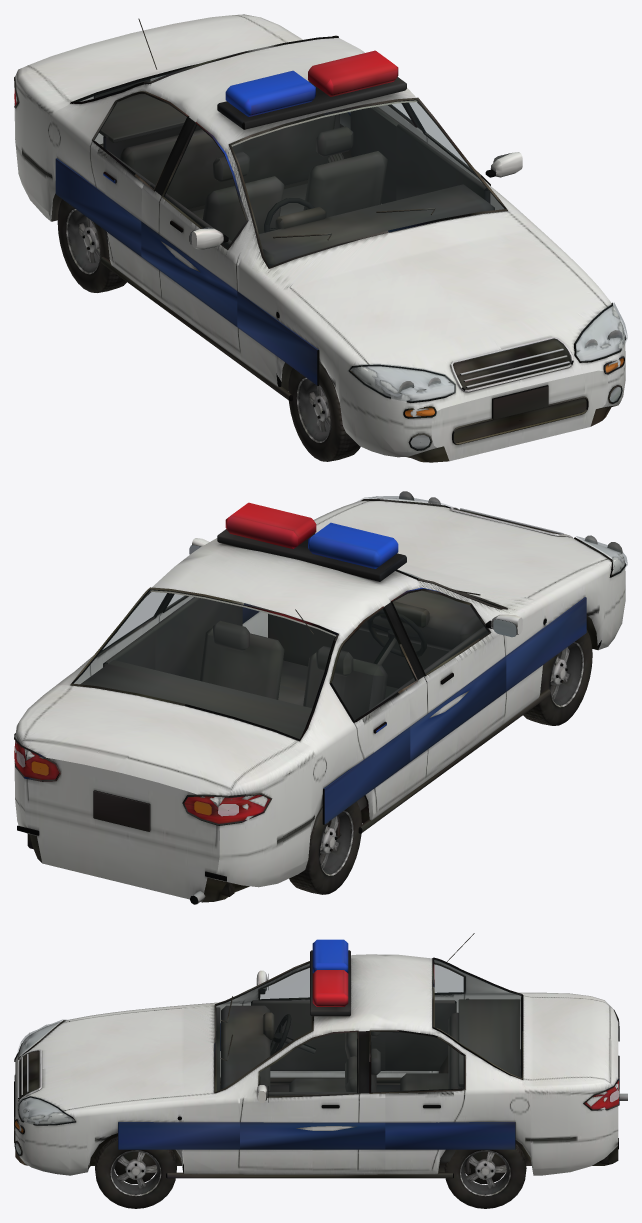
File: police_car.glb
3 renders of one model, top to bottom at view 1: azimuth 30°, elevation 25°; view 2: azimuth 150°, elevation 25°; view 3: azimuth 270°, elevation 25°, orthographic. The views are drawn at different scales.
Parts seen in each view (by area): view 1: body, glass, door_D, door_D_glass, door_PL, wheel_FR, wheel_RR, door_PL_glass; view 2: body, glass, door_D, door_PL, door_D_glass, wheel_RR, wheel_FR; view 3: body, glass, door_PL, door_PL_glass, door_D, wheel_FL, wheel_RL, door_D_glass.
Part boxes in pixels (left/top/right/bottom): body: left=14, top=14, right=626, bottom=462; glass: left=77, top=67, right=627, bottom=450; door_D: left=141, top=146, right=284, bottom=354; door_D_glass: left=146, top=139, right=317, bottom=247; door_PL: left=349, top=102, right=504, bottom=210; wheel_FR: left=288, top=361, right=360, bottom=461; wheel_RR: left=57, top=199, right=126, bottom=292; door_PL_glass: left=399, top=103, right=483, bottom=190; body: left=14, top=491, right=626, bottom=904; glass: left=74, top=496, right=627, bottom=738; door_D: left=343, top=589, right=506, bottom=789; door_PL: left=142, top=593, right=242, bottom=681; door_D_glass: left=387, top=596, right=488, bottom=685; wheel_RR: left=289, top=801, right=361, bottom=894; wheel_FR: left=523, top=629, right=592, bottom=725; body: left=14, top=933, right=627, bottom=1178; glass: left=14, top=959, right=521, bottom=1155; door_PL: left=240, top=1052, right=385, bottom=1169; door_PL_glass: left=240, top=1038, right=384, bottom=1095; door_D: left=240, top=976, right=385, bottom=1072; wheel_FL: left=95, top=1136, right=176, bottom=1208; wheel_RL: left=444, top=1144, right=526, bottom=1208; door_D_glass: left=240, top=975, right=309, bottom=1008.
Size of the model in its own units: 2.09 by 1.62 by 4.48.
2 materials, 1 textured.
